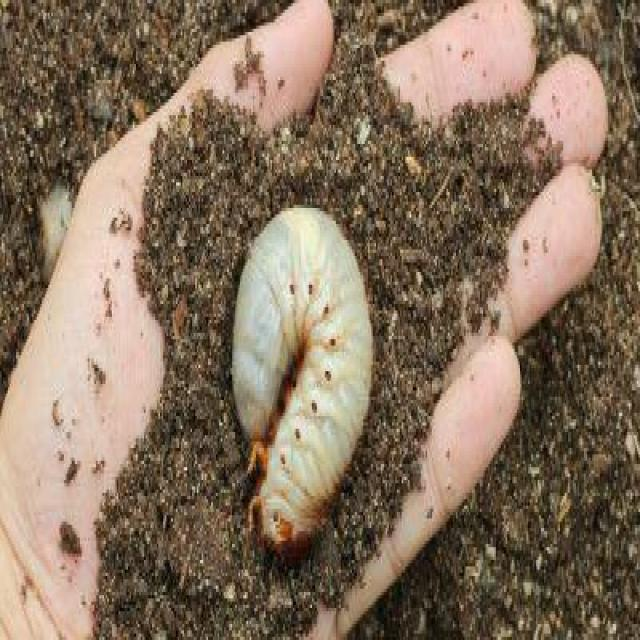Grub-Adult-: (218, 189, 380, 557)
